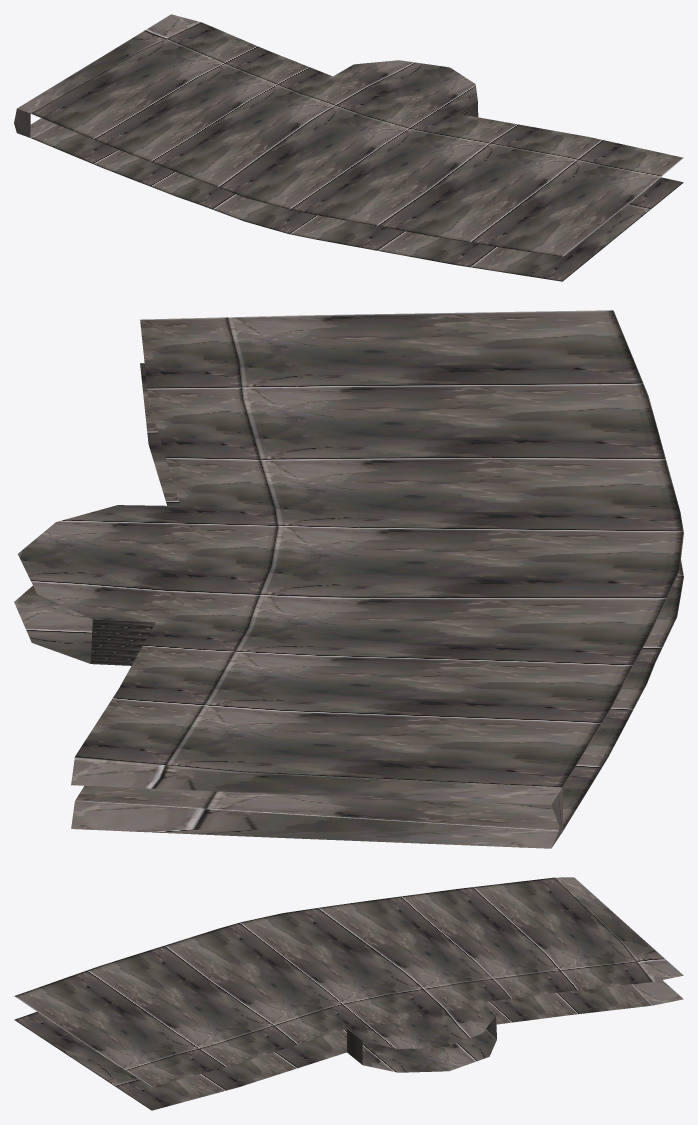
The model's file is CH09_SMAUG_PLAYSURFACE_LAIR133.fbx.
The picture shows the model from 3 angles, top to bottom: view 1: azimuth 30°, elevation 25°; view 2: azimuth 150°, elevation 25°; view 3: azimuth 270°, elevation 25°; orthographic projection. The views are drawn at different scales.
Parts seen in each view (by area): view 1: CH09_SMAUG_PLAYSURFACE_LAIR133; view 2: CH09_SMAUG_PLAYSURFACE_LAIR133; view 3: CH09_SMAUG_PLAYSURFACE_LAIR133.
Boxes of the visible parts, left/top/right/bottom form: CH09_SMAUG_PLAYSURFACE_LAIR133: left=14, top=14, right=683, bottom=281; CH09_SMAUG_PLAYSURFACE_LAIR133: left=14, top=310, right=683, bottom=848; CH09_SMAUG_PLAYSURFACE_LAIR133: left=14, top=877, right=683, bottom=1110.
Size of the model in its own units: 117746 by 6463 by 156496.
1 material, 1 textured.
